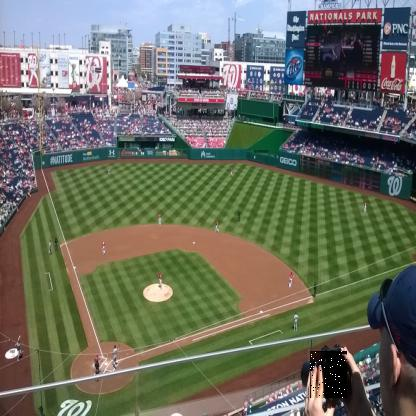Camera: (311, 352, 349, 400)
